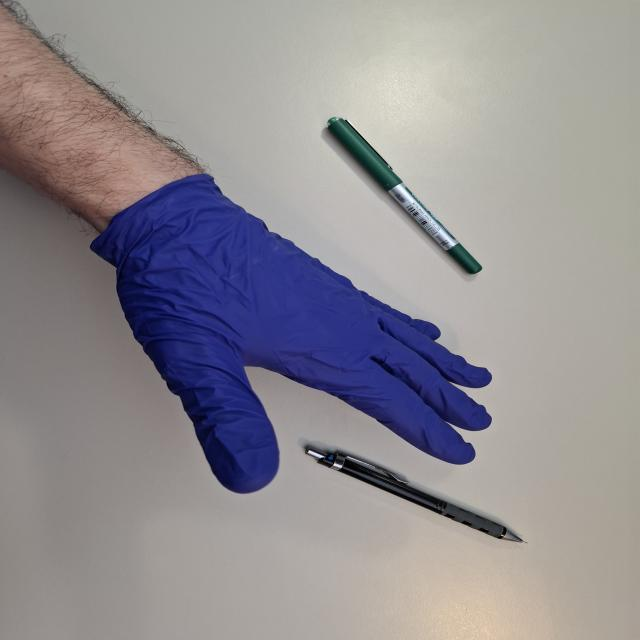glove_on: (77, 171, 497, 496)
